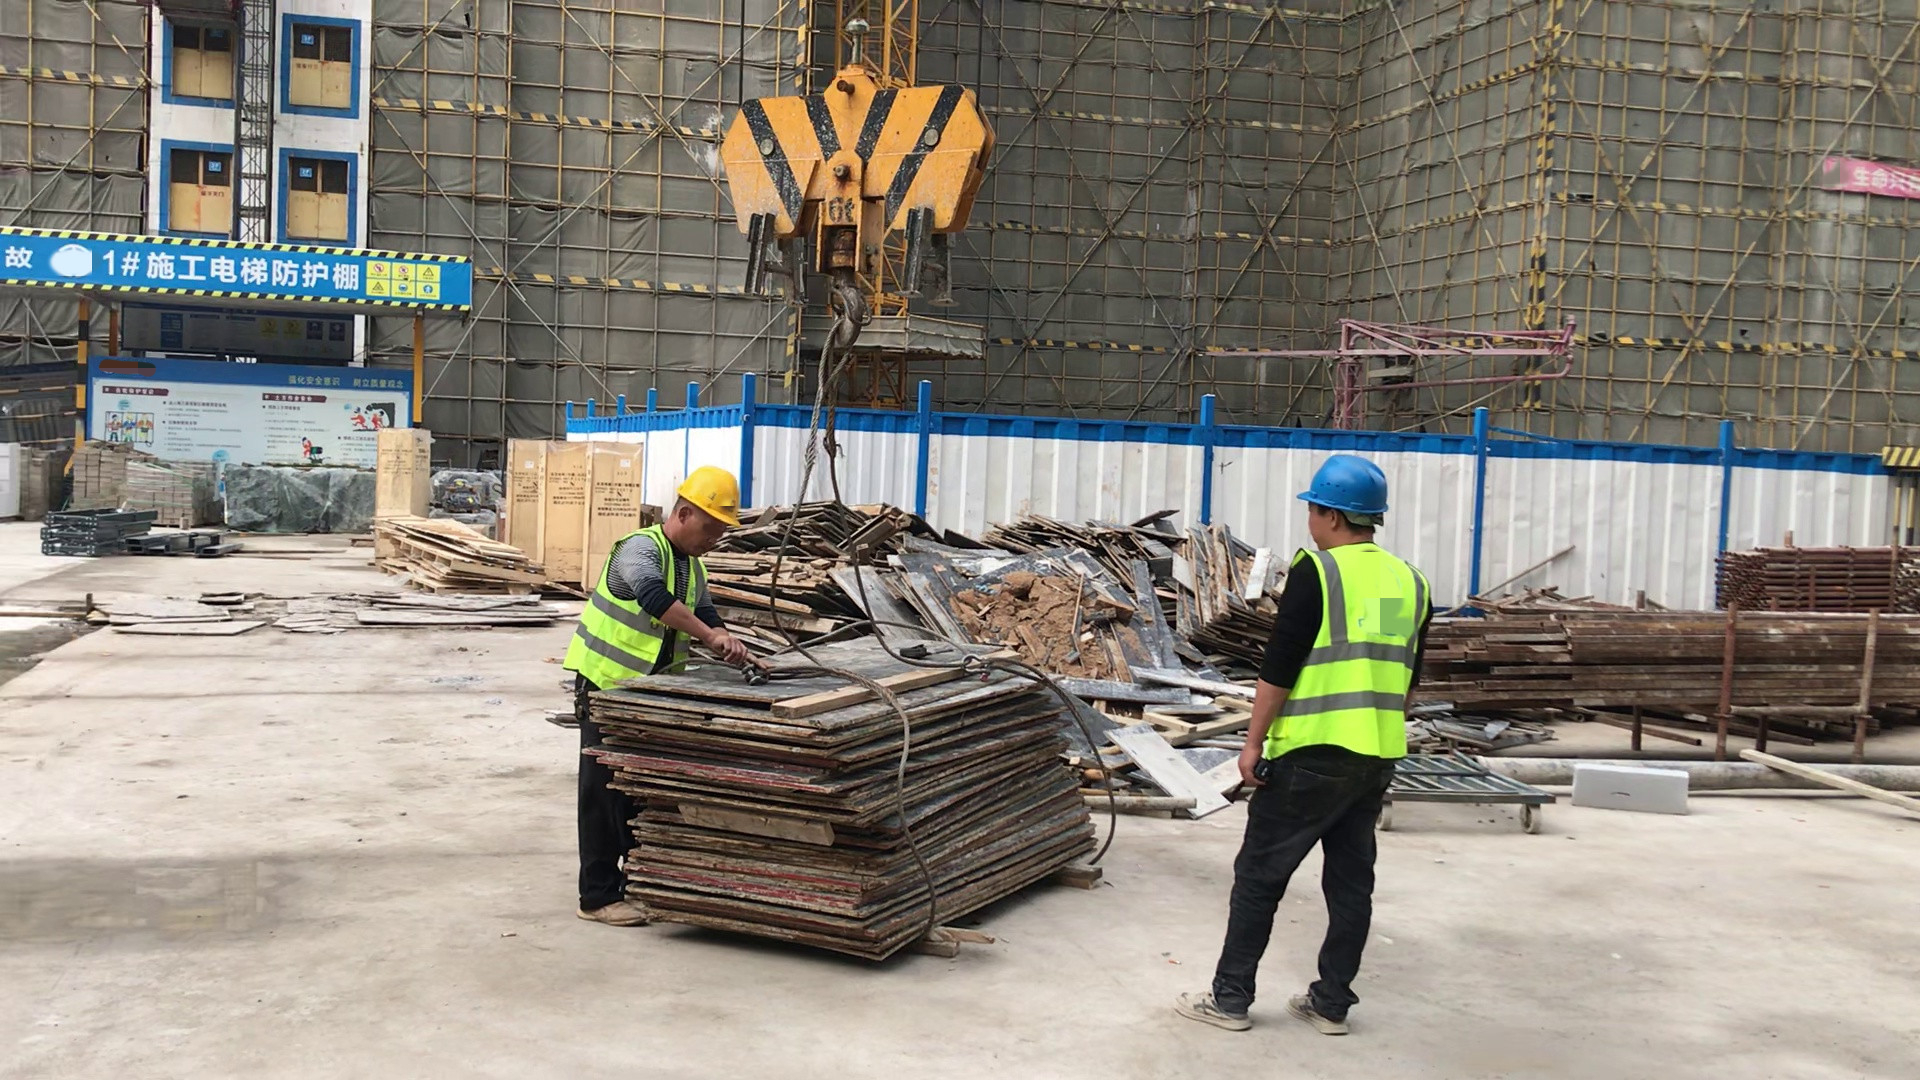board: (598, 638, 1092, 961)
helmet: (1299, 446, 1387, 517), (676, 465, 741, 530)
hook: (713, 64, 992, 345)
person: (1196, 445, 1433, 1046), (571, 463, 767, 941)
scaffold: (1720, 538, 1920, 611)
slogan: (3, 223, 472, 305), (1821, 153, 1920, 199)
vest: (1261, 540, 1425, 779), (572, 520, 706, 703)
